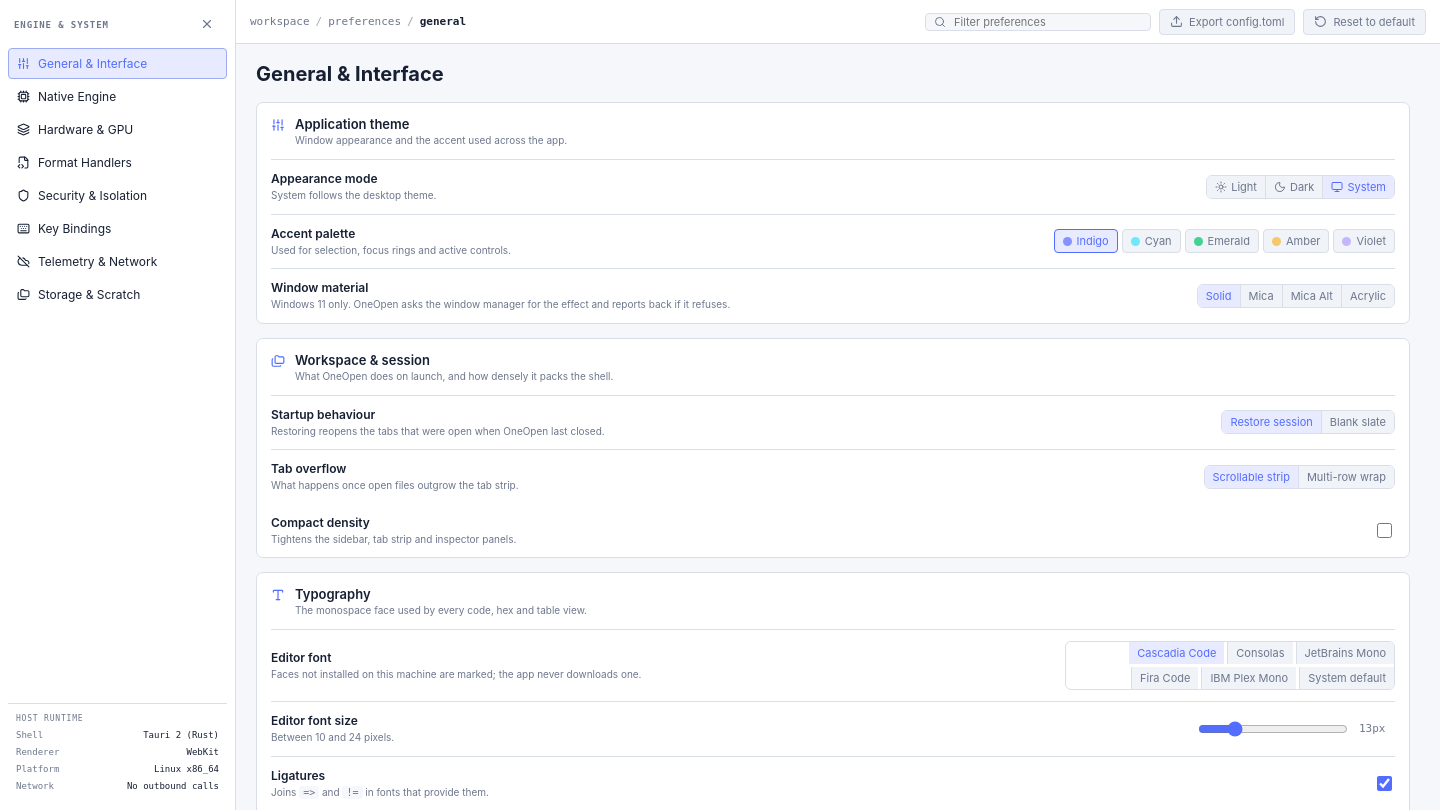
Test: settings page › moves the font size slider within the range Rust allows
Set the slider named "Editor font size" to "18". click: coordinates (1283, 729)
box: x1=1198 y1=721 x2=1348 y2=737
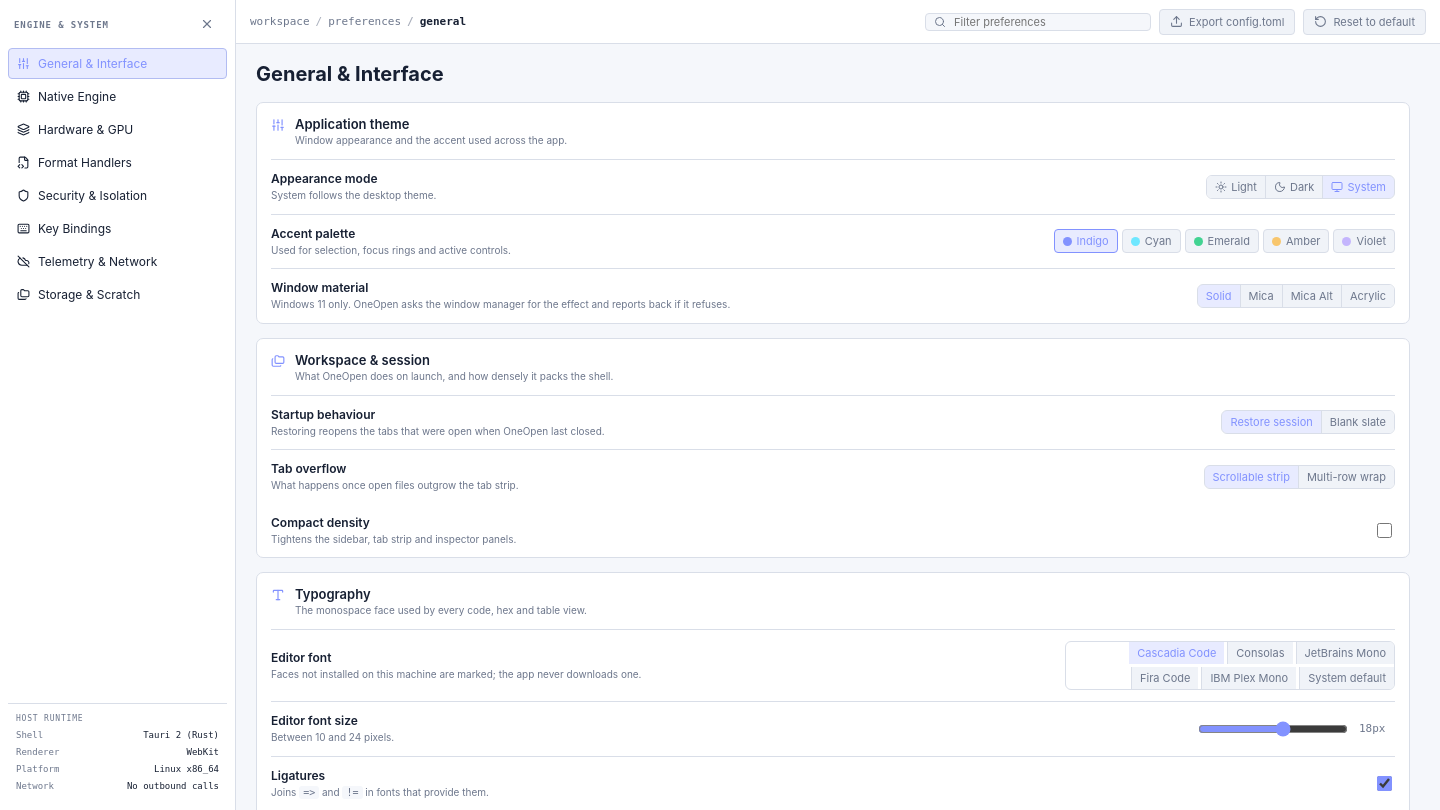
Now the text "18px" is shown, box x1=1359 y1=722 x2=1386 y2=735
